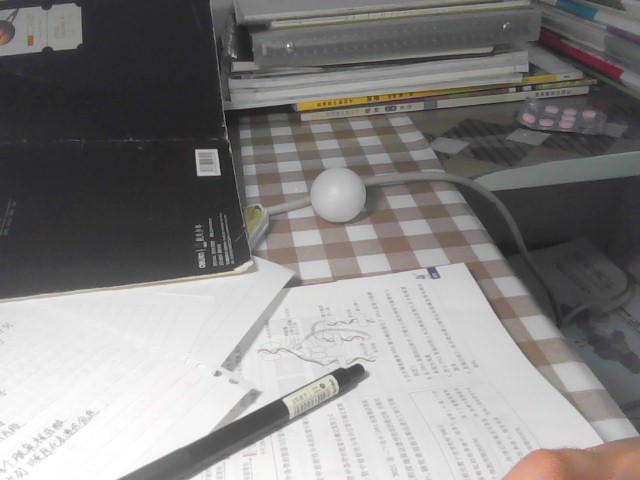ball: (313, 169, 365, 222)
